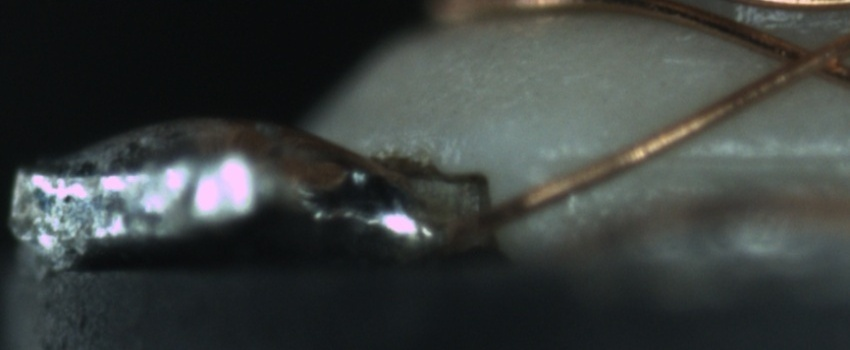CL: (759, 29, 844, 90)
DL: (547, 130, 850, 185)
